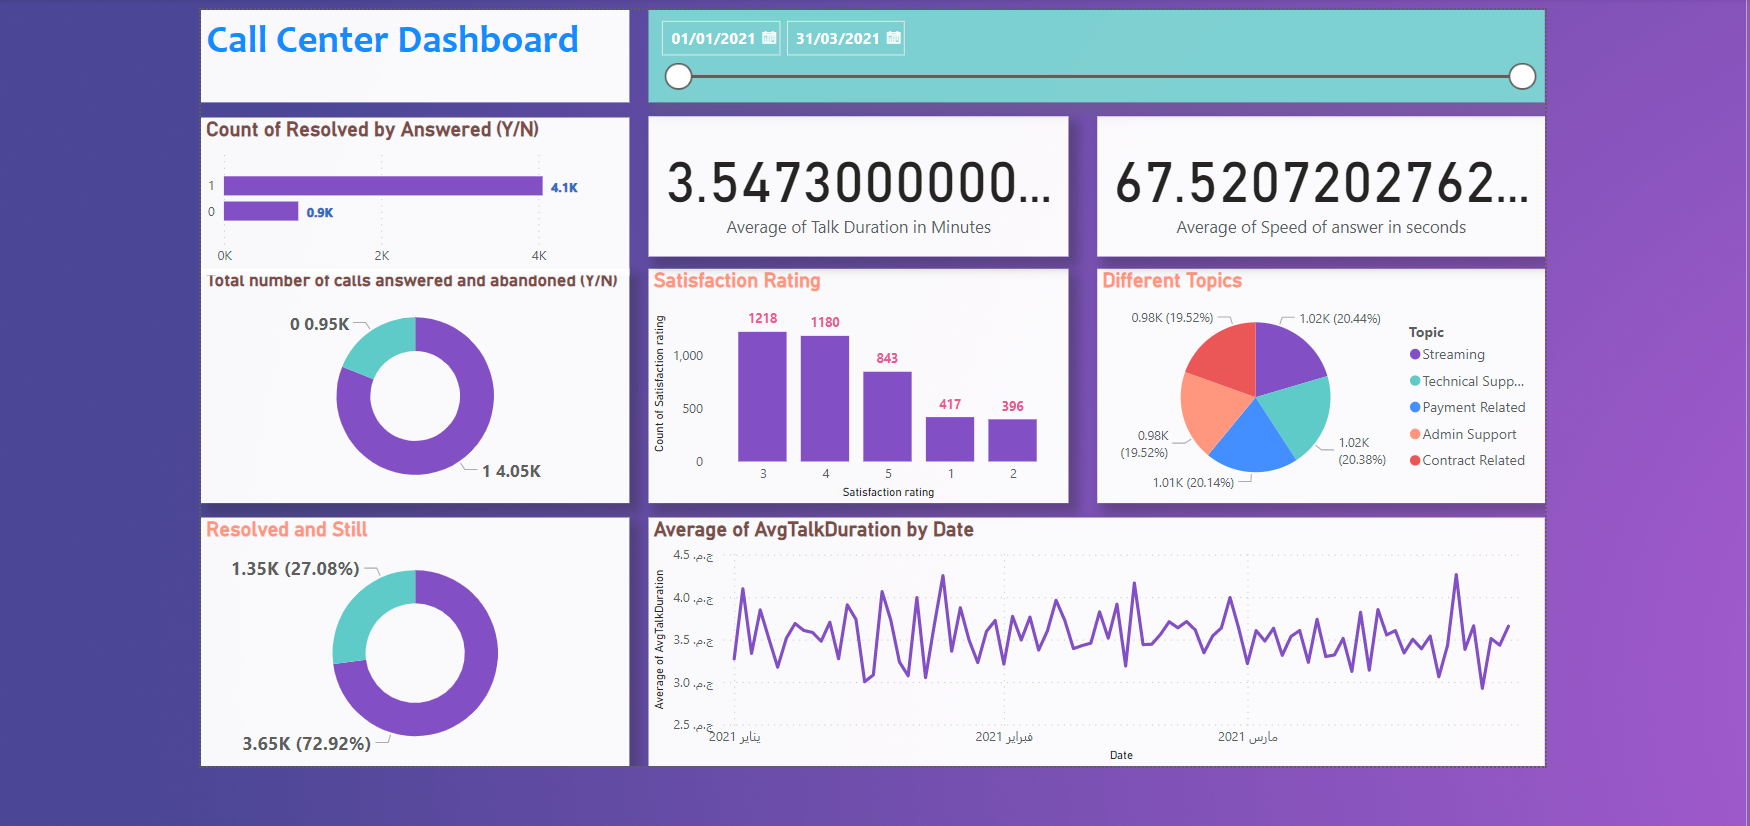

The page's visual inventory and layout, read from the dashboard file:
{"tool":"powerbi","page":{"name":"Page 1","canvas":[1280,720],"ordinal":0},"visuals":[{"type":"donutChart","title":"Total number of calls answered and abandoned (Y/N)","fields":{"Category":["Sheet1.Answered (Y/N)"],"Y":["CountNonNull(Sheet1.Answered (Y/N))"]},"box":[0,246.7,408.3,223.3],"z":0},{"type":"pieChart","title":"Different Topics","fields":{"Category":["Sheet1.Topic"],"Y":["CountNonNull(Sheet1.Topic)"]},"box":[853.3,246.7,426.7,223.3],"z":2},{"type":"clusteredColumnChart","title":"Satisfaction Rating","fields":{"Category":["Sheet1.Satisfaction rating"],"Y":["CountNonNull(Sheet1.Satisfaction rating)"]},"box":[426.7,246.7,400,223.3],"z":3},{"type":"donutChart","title":"Resolved and Still","fields":{"Category":["Sheet1.Resolved"],"Y":["CountNonNull(Sheet1.Resolved)"]},"box":[0,483.3,408.3,236.7],"z":4},{"type":"lineChart","fields":{"Y":["Avg(Sheet1.AvgTalkDuration)"],"Category":["Sheet1.Date"]},"box":[426.7,483.3,853.3,236.7],"z":5},{"type":"card","fields":{"Values":["Avg(Sheet1.Speed of answer in seconds)"]},"box":[853.3,101.7,426.7,133.3],"z":12},{"type":"card","fields":{"Values":["Avg(Sheet1.AvgTalkDuration)"]},"box":[426.7,101.7,400,133.3],"z":13},{"type":"textbox","box":[0,0,408.3,88.3],"z":14},{"type":"slicer","fields":{"Values":["Sheet1.Date"]},"box":[426.7,0,853.3,88.3],"z":15},{"type":"barChart","fields":{"Category":["Sheet1.Answered (Y/N)"],"Y":["CountNonNull(Sheet1.Resolved)"]},"box":[0,102,408,150],"z":16}]}

Visuals, with their boxes on the page's 1280x720 design canvas (x1, y1, x2, y2). These are canvas units, not pixel positions in the 1750x826 screenshot, which may show the page scaled, cropped or inside an application window:
"Total number of calls answered and abandoned (Y/N)" donutChart: bbox=(0, 247, 408, 470)
"Different Topics" pieChart: bbox=(853, 247, 1280, 470)
"Satisfaction Rating" clusteredColumnChart: bbox=(427, 247, 827, 470)
"Resolved and Still" donutChart: bbox=(0, 483, 408, 720)
lineChart - Avg(Sheet1.AvgTalkDuration) x Sheet1.Date: bbox=(427, 483, 1280, 720)
card - Avg(Sheet1.Speed of answer in seconds): bbox=(853, 102, 1280, 235)
card - Avg(Sheet1.AvgTalkDuration): bbox=(427, 102, 827, 235)
textbox: bbox=(0, 0, 408, 88)
slicer - Sheet1.Date: bbox=(427, 0, 1280, 88)
barChart - Sheet1.Answered (Y/N) x CountNonNull(Sheet1.Resolved): bbox=(0, 102, 408, 252)
